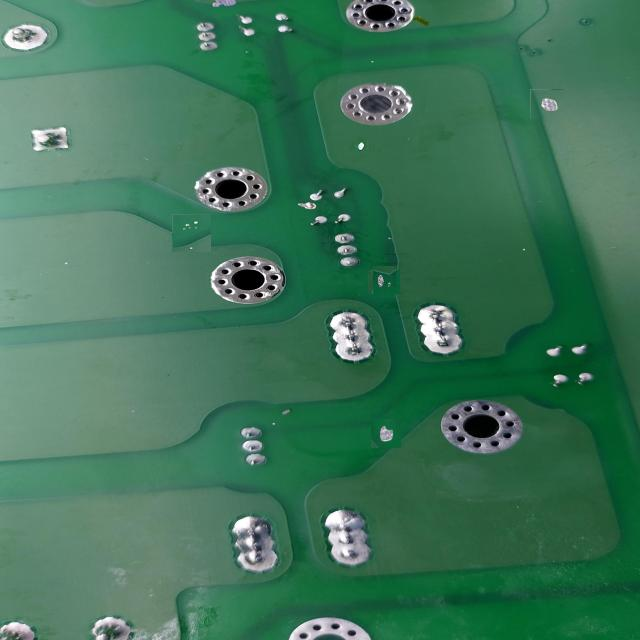spillover: (172, 214, 211, 252), (530, 89, 564, 119), (370, 418, 401, 448), (371, 268, 398, 296), (351, 139, 368, 156)
